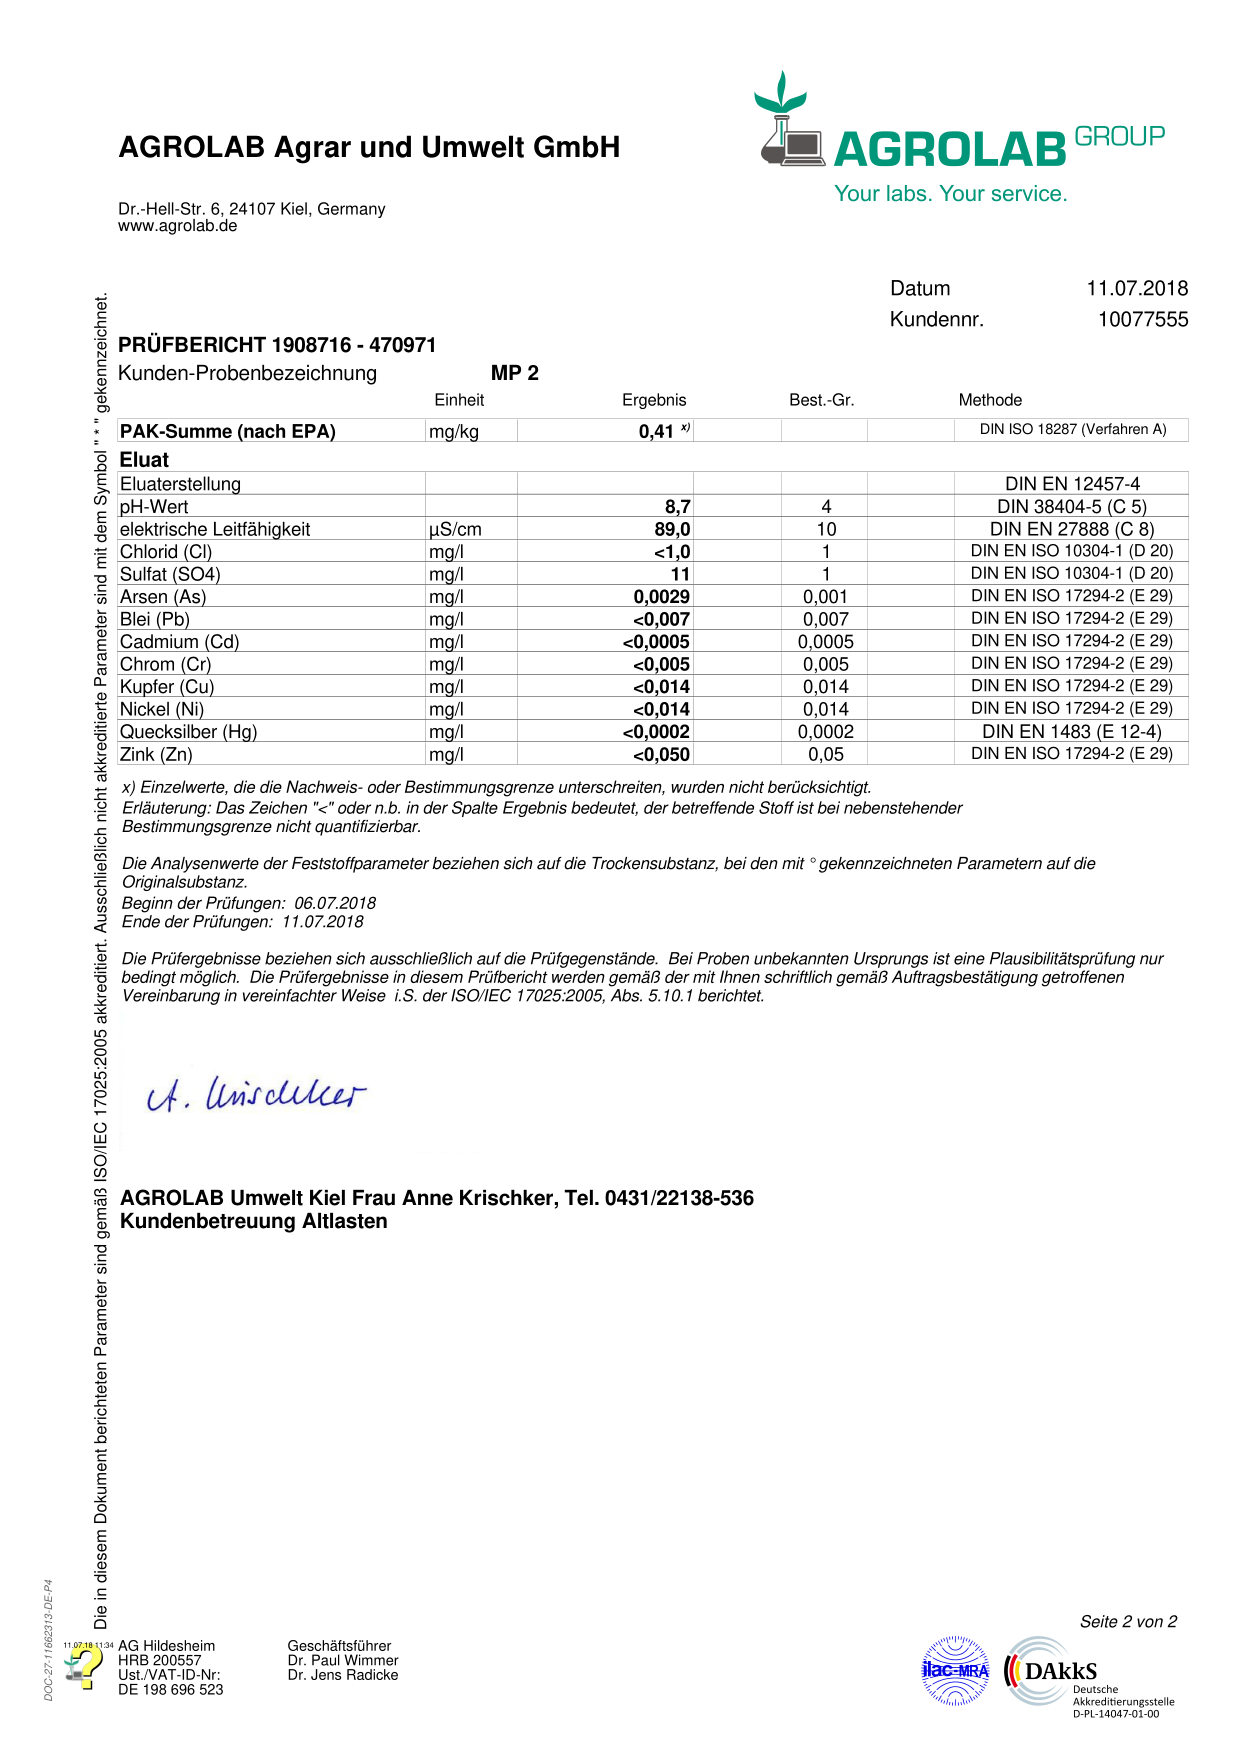table: (113, 389, 1190, 774)
